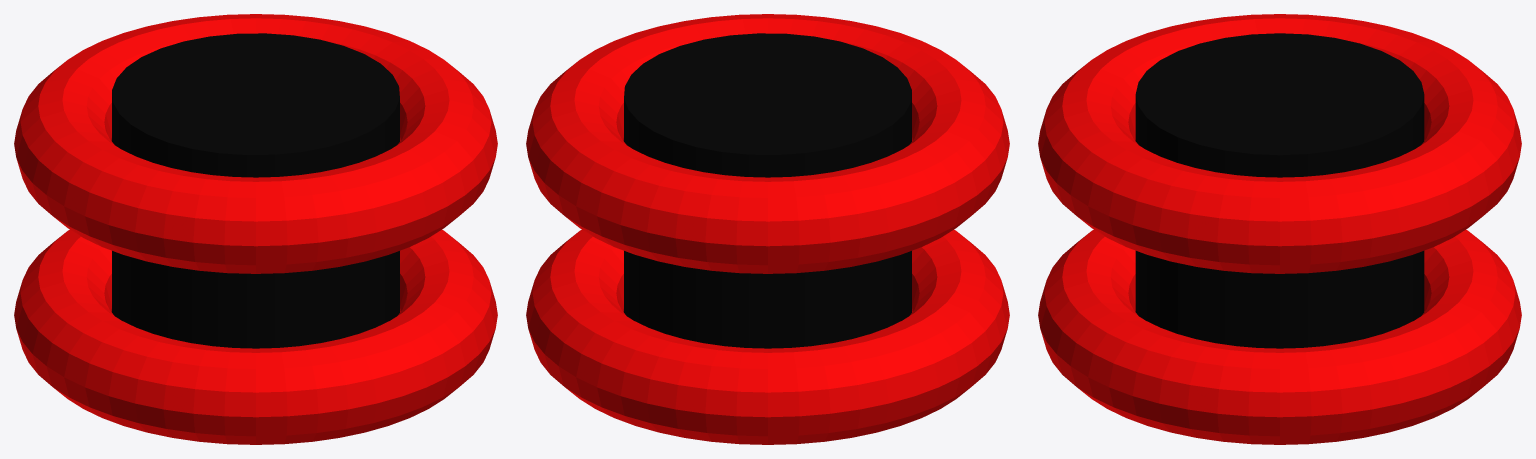
The model's file is Piros torony kozepso.glb.
3 renders of one model, left to right at view 1: azimuth 30°, elevation 25°; view 2: azimuth 150°, elevation 25°; view 3: azimuth 270°, elevation 25°, orthographic.
Visible parts, largest first — view 1: Torus.003; view 2: Torus.003; view 3: Torus.003.
Boxes of the visible parts, x1,y1,x2,y2 form: Torus.003: (14,14,497,444); Torus.003: (526,14,1009,444); Torus.003: (1038,14,1521,444).
Bounding box in the file's own units: 1.51 × 0.9126 × 1.51.
